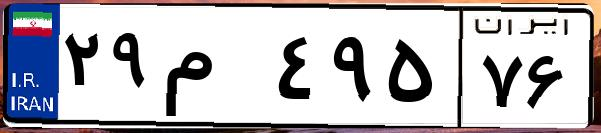2: (57, 26, 110, 100)
4: (270, 28, 330, 110)
5: (385, 28, 445, 110)
6: (525, 38, 570, 115)
7: (475, 38, 525, 113)
9: (330, 28, 385, 110), (110, 28, 158, 98)
م: (158, 20, 270, 120)
